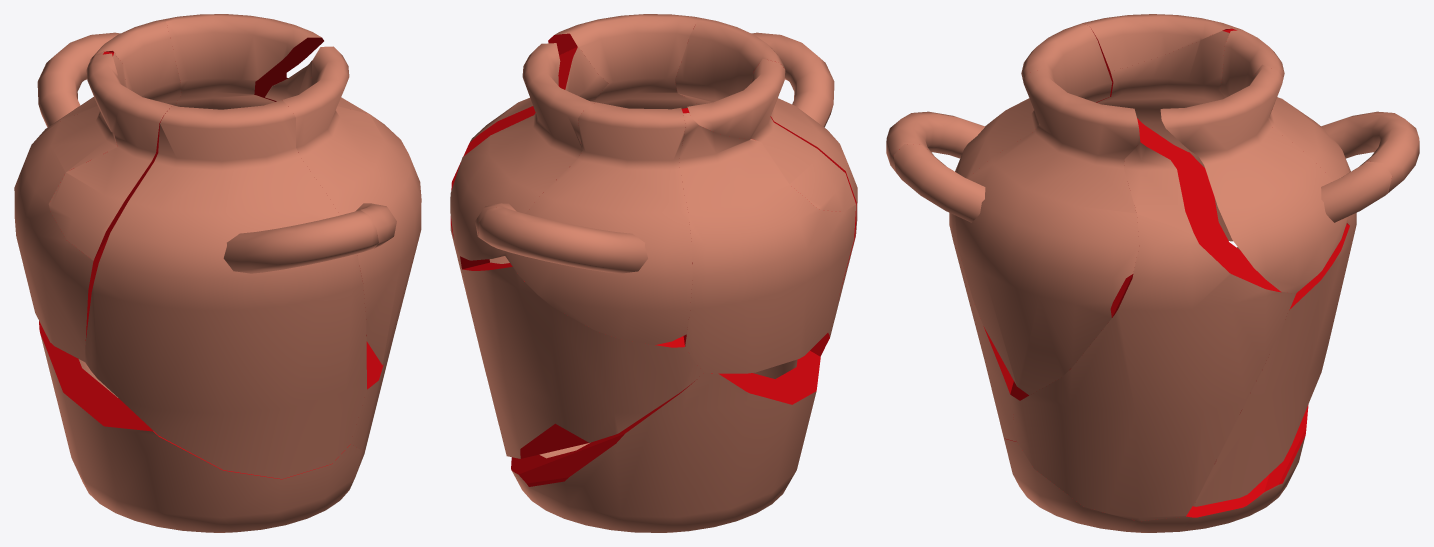
Rendered from ClayPot_04_destroyed 1.fbx.
The picture shows the model from 3 angles, left to right: view 1: azimuth 30°, elevation 25°; view 2: azimuth 150°, elevation 25°; view 3: azimuth 270°, elevation 25°; orthographic projection.
Visible parts, largest first — view 1: ClayPot_04_cell.003, ClayPot_04_cell, ClayPot_04_cell.011, ClayPot_04_cell.008, ClayPot_04_cell.005, ClayPot_04_cell.001, ClayPot_04_cell.002, ClayPot_04_cell.012; view 2: ClayPot_04_cell.002, ClayPot_04_cell, ClayPot_04_cell.008, ClayPot_04_cell.007, ClayPot_04_cell.005, ClayPot_04_cell.003, ClayPot_04_cell.011, ClayPot_04_cell.001, ClayPot_04_cell.012; view 3: ClayPot_04_cell.012, ClayPot_04_cell.011, ClayPot_04_cell.005, ClayPot_04_cell.007, ClayPot_04_cell.003, ClayPot_04_cell.002, ClayPot_04_cell.008, ClayPot_04_cell, ClayPot_04_cell.001.
Boxes of the visible parts, box(x1,y1,x2,y2) form: ClayPot_04_cell.003: box(85, 100, 378, 478); ClayPot_04_cell: box(39, 321, 365, 532); ClayPot_04_cell.011: box(282, 46, 421, 365); ClayPot_04_cell.008: box(14, 51, 154, 361); ClayPot_04_cell.005: box(164, 14, 323, 109); ClayPot_04_cell.001: box(48, 53, 172, 260); ClayPot_04_cell.002: box(37, 19, 181, 138); ClayPot_04_cell.012: box(265, 60, 399, 450); ClayPot_04_cell.002: box(478, 102, 692, 344); ClayPot_04_cell: box(511, 351, 820, 532); ClayPot_04_cell.008: box(679, 108, 855, 373); ClayPot_04_cell.007: box(462, 262, 703, 458); ClayPot_04_cell.005: box(450, 43, 595, 260); ClayPot_04_cell.003: box(675, 18, 857, 356); ClayPot_04_cell.011: box(523, 14, 704, 109); ClayPot_04_cell.001: box(687, 59, 855, 211); ClayPot_04_cell.012: box(450, 47, 608, 309); ClayPot_04_cell.012: box(1010, 118, 1296, 520); ClayPot_04_cell.011: box(893, 68, 1140, 395); ClayPot_04_cell.005: box(1160, 64, 1392, 293); ClayPot_04_cell.007: box(1193, 224, 1354, 506); ClayPot_04_cell.003: box(886, 23, 1112, 441); ClayPot_04_cell.002: box(1220, 30, 1419, 231); ClayPot_04_cell.008: box(1096, 28, 1242, 241); ClayPot_04_cell: box(1004, 247, 1308, 532); ClayPot_04_cell.001: box(1082, 14, 1237, 72).
Bounding box in the file's own units: 36.53 × 42.08 × 47.77.
